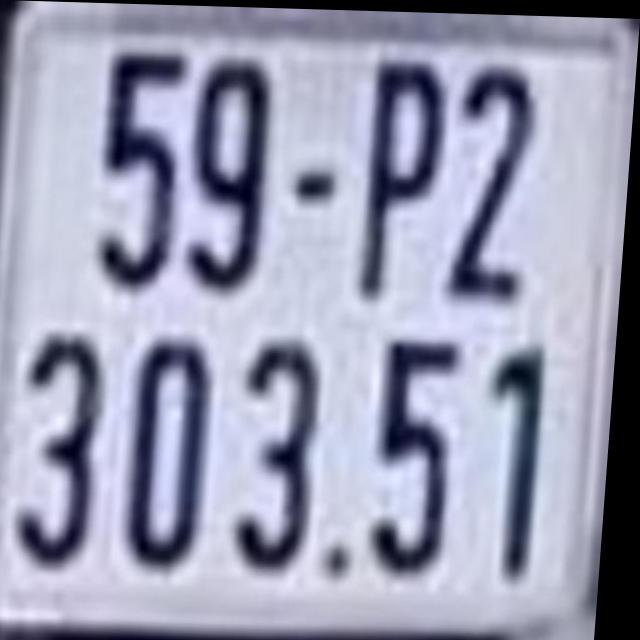0: (130, 335, 225, 565)
1: (489, 333, 570, 584)
2: (459, 61, 544, 310)
3: (238, 326, 332, 572), (24, 329, 115, 561)
5: (376, 336, 480, 576), (98, 52, 190, 286)
9: (191, 58, 274, 283)
P: (356, 53, 451, 302)
